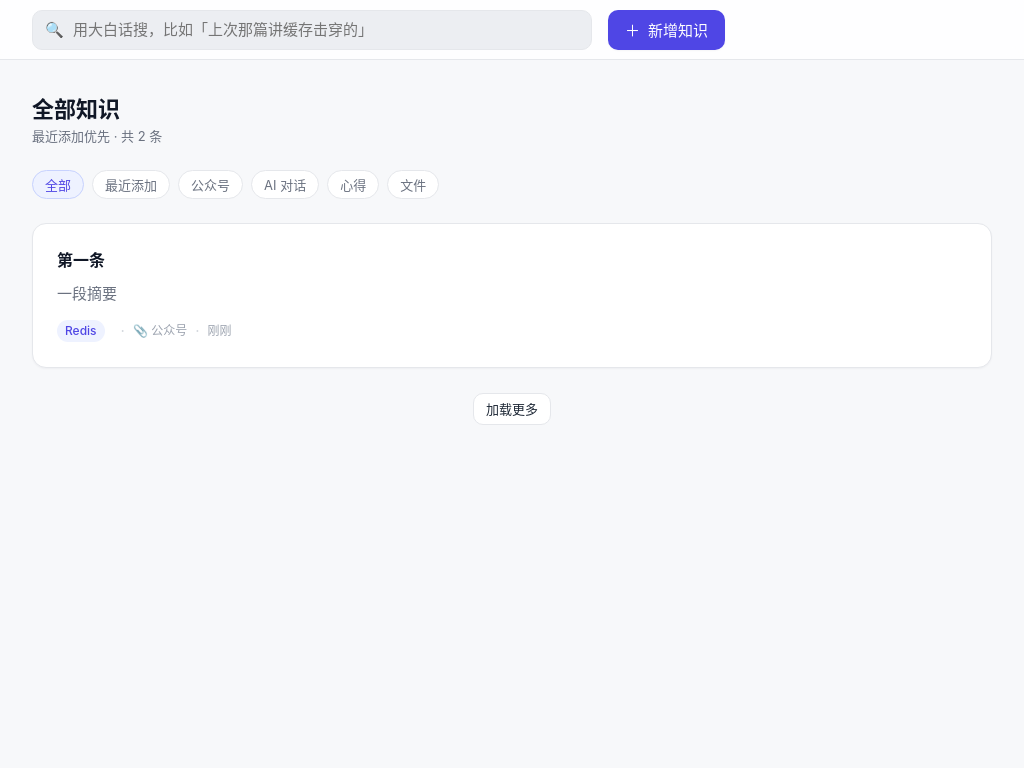
Test: C-KM-04 无限滚动 / 加载更多 › 未加载满时点加载更多请求下一页并追加
The width and height of the screenshot is (1024, 768).
Check: the text "第一条" is shown, box top-left (57, 250), bottom-right (105, 270)
Click the button "加载更多".
click(512, 408)  # box top-left (473, 392), bottom-right (551, 424)
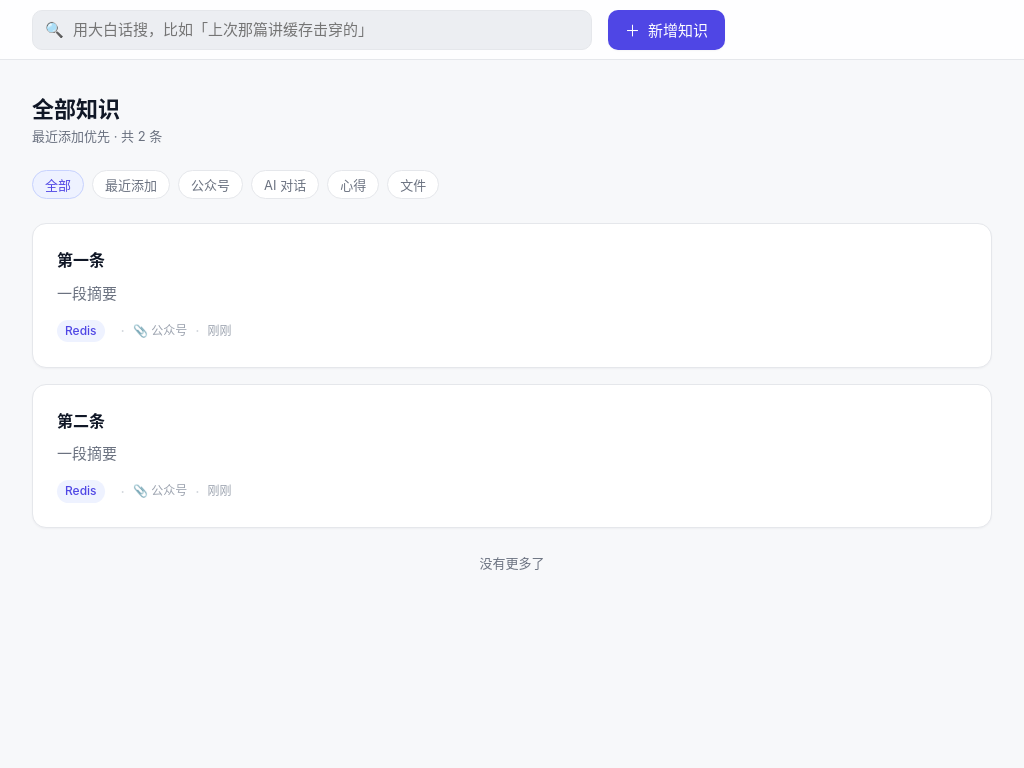
Check: the text "第二条" is shown, box top-left (57, 410), bottom-right (105, 430)
Check: the text "没有更多了" is shown, box top-left (480, 555), bottom-right (544, 571)
